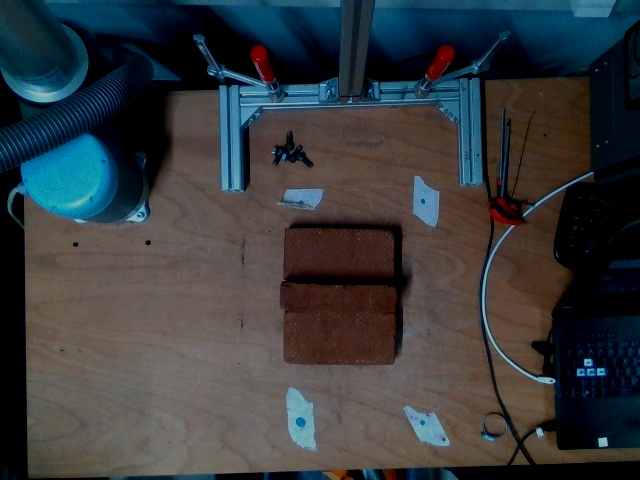brick: (284, 227, 396, 283), (284, 314, 394, 365)
brick-side: (277, 282, 396, 316)
